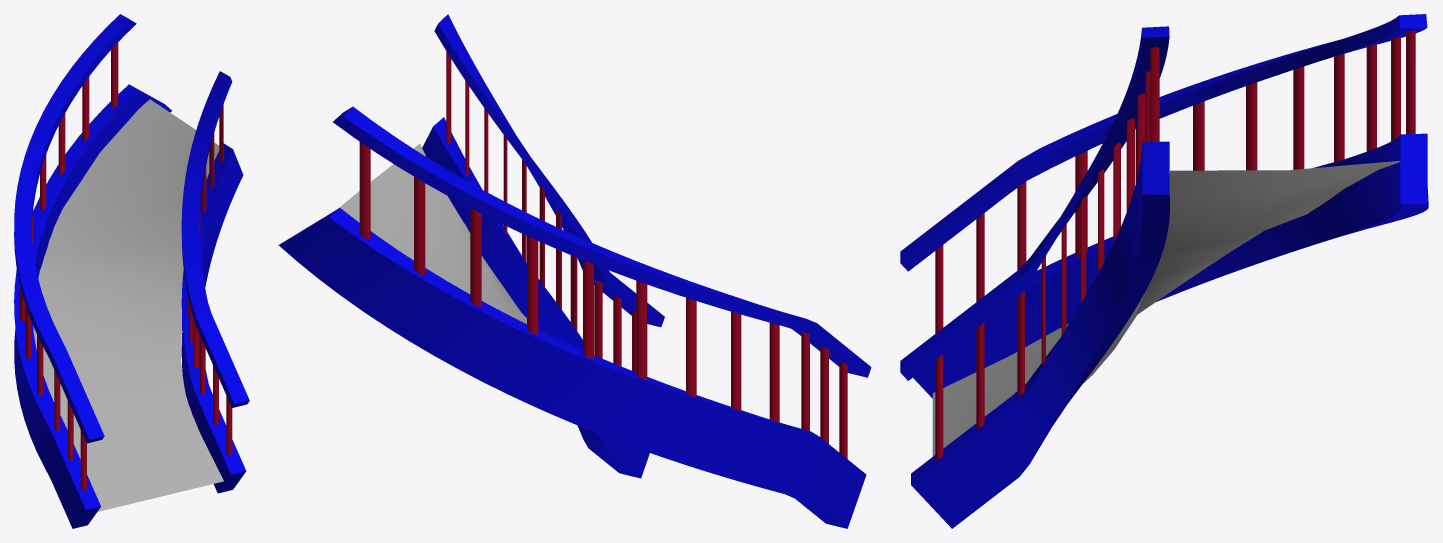
Rendered from v5_RampRailings.fbx.
3 renders of one model, left to right at view 1: azimuth 30°, elevation 25°; view 2: azimuth 150°, elevation 25°; view 3: azimuth 270°, elevation 25°, orthographic. The views are drawn at different scales.
Visible parts, largest first — view 1: V3_Stairs3; view 2: V3_Stairs3; view 3: V3_Stairs3.
Part boxes in pixels (x1,y1,x2,y2): V3_Stairs3: (14,14,249,528); V3_Stairs3: (278,14,871,528); V3_Stairs3: (900,14,1428,528).
Size of the model in its own units: 73.63 by 101 by 88.69.
